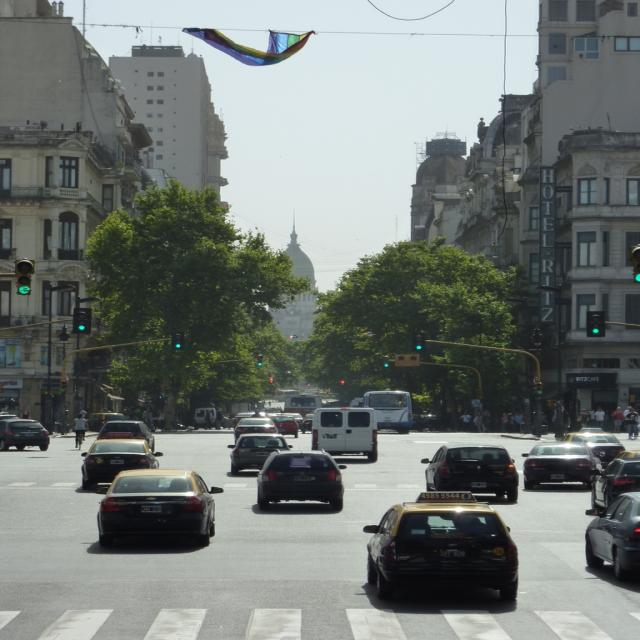car: (365, 493, 527, 604), (90, 463, 228, 538), (582, 489, 638, 596), (249, 446, 341, 510), (422, 441, 516, 502), (79, 436, 158, 482), (523, 440, 586, 485), (590, 456, 639, 508), (228, 432, 287, 469), (0, 413, 51, 449), (564, 433, 621, 458), (235, 417, 279, 430)
